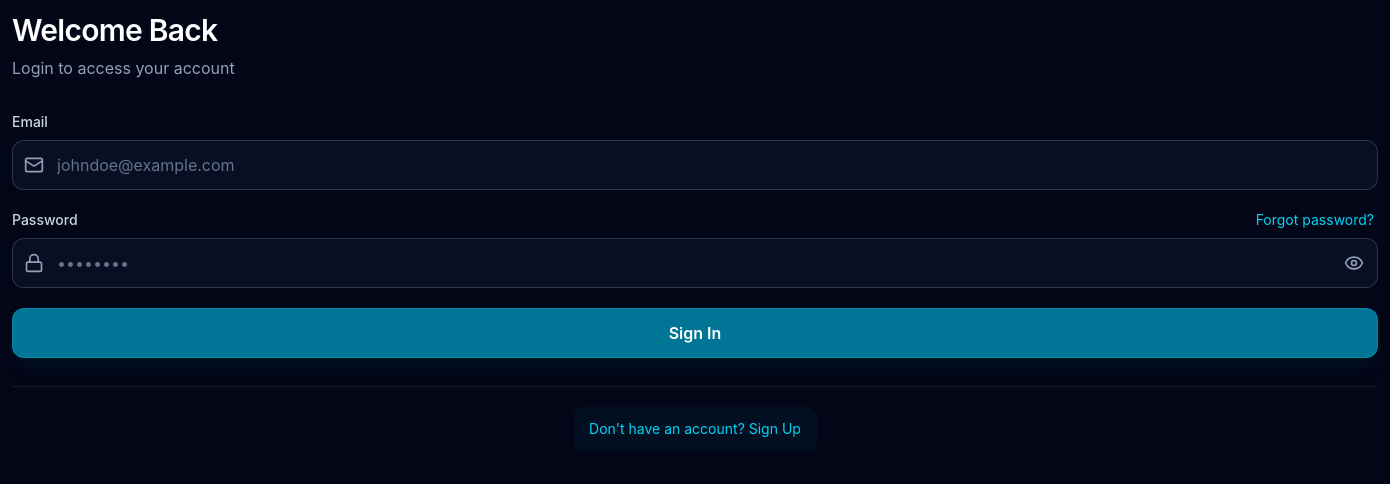
Test: LoginForm › shows validation error for invalid email
In the field with placeholder "johndoe@example.com": [695, 165] box 12,140 -> 1378,190, type "invalid-email"
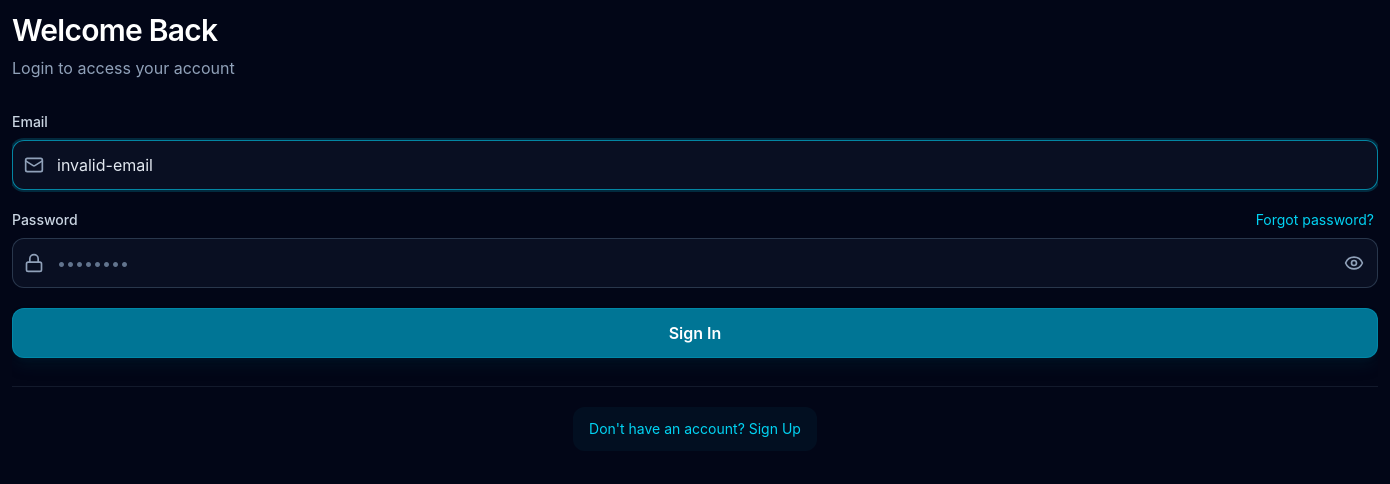
In the password field with placeholder "••••••••": [695, 263] box 12,238 -> 1378,288, type "password123"
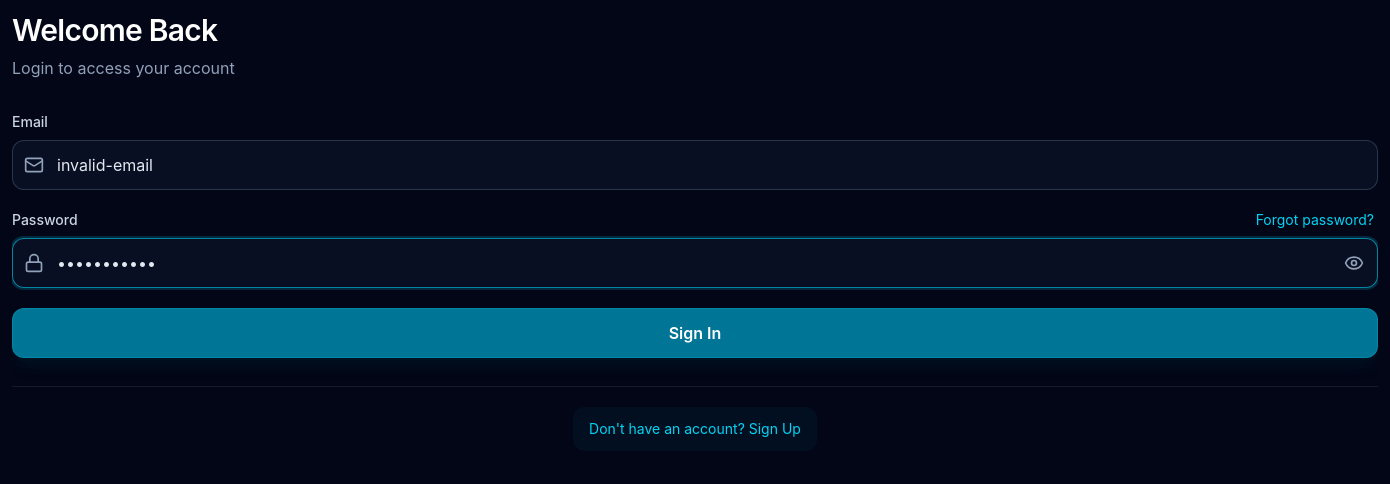
Click the button "Sign In": [695, 333] box 12,308 -> 1378,358
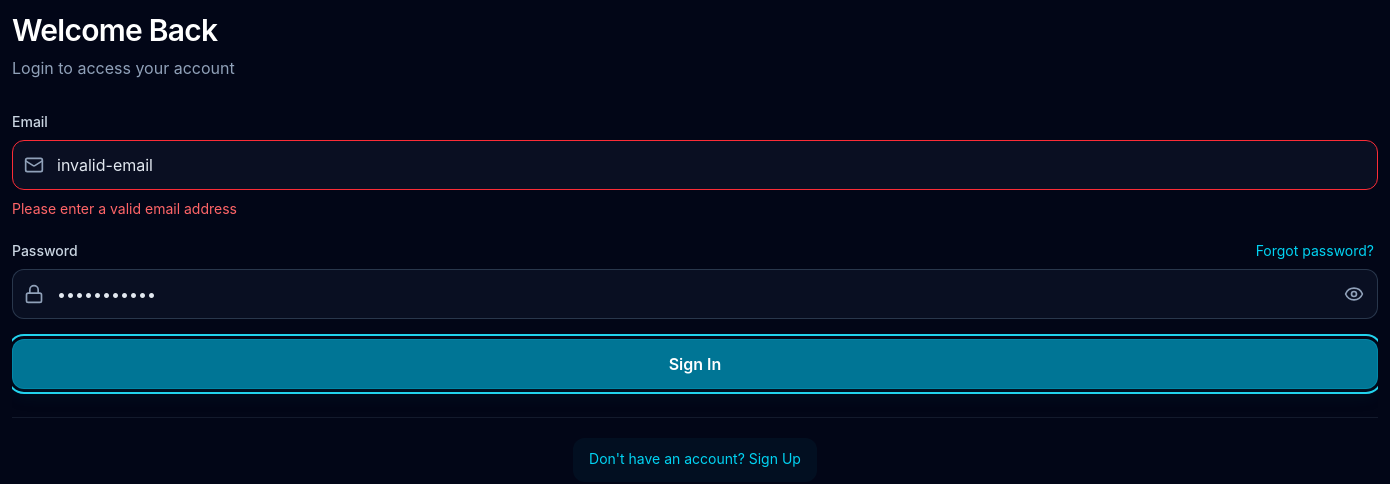
Check: the text "Please enter a valid email address" is shown, box 12,200 -> 237,217
